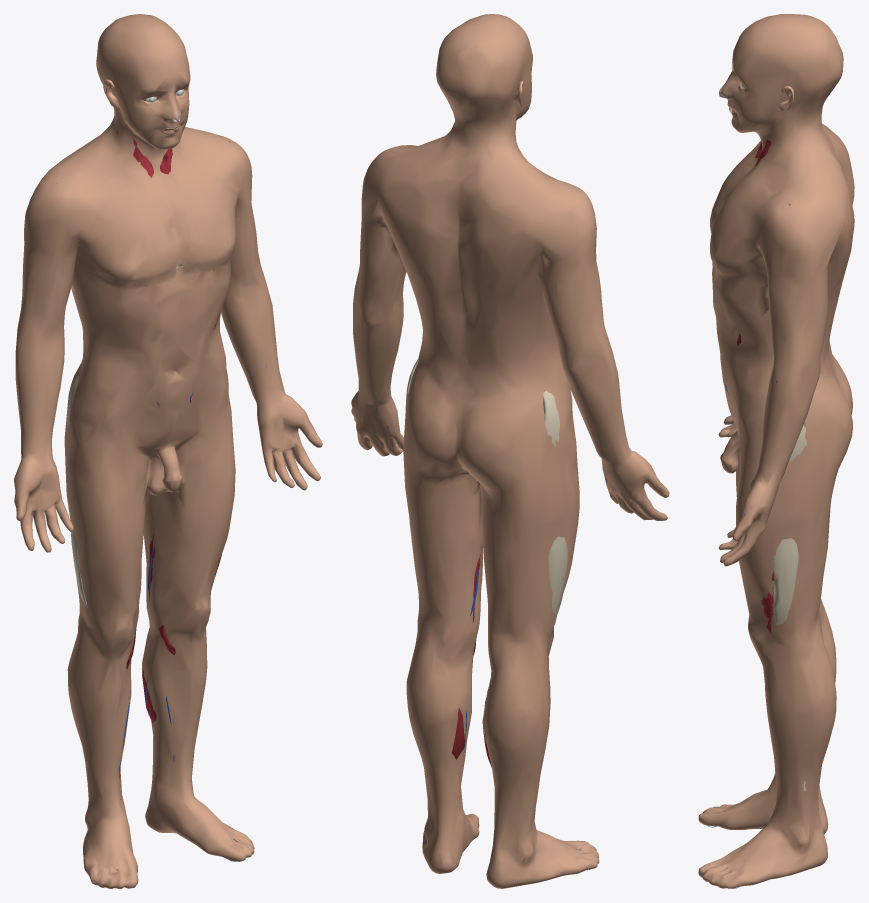
Rendered from anatomy.glb.
The picture shows the model from 3 angles, left to right: view 1: azimuth 30°, elevation 25°; view 2: azimuth 150°, elevation 25°; view 3: azimuth 270°, elevation 25°; orthographic projection. The views are drawn at different scales.
Visible parts, largest first — view 1: skin, muscles, skeleton; view 2: skin, skeleton, muscles; view 3: skin, skeleton, muscles.
Boxes of the visible parts, x1,y1,x2,y2 form: skin: [14, 14, 322, 888]; muscles: [57, 97, 268, 723]; skeleton: [67, 98, 182, 607]; skin: [351, 14, 669, 888]; skeleton: [405, 358, 567, 616]; muscles: [395, 146, 611, 767]; skin: [698, 14, 854, 888]; skeleton: [719, 94, 807, 790]; muscles: [737, 137, 790, 632].
Bounding box in the file's own units: 0.6667 × 1.72 × 0.292.
